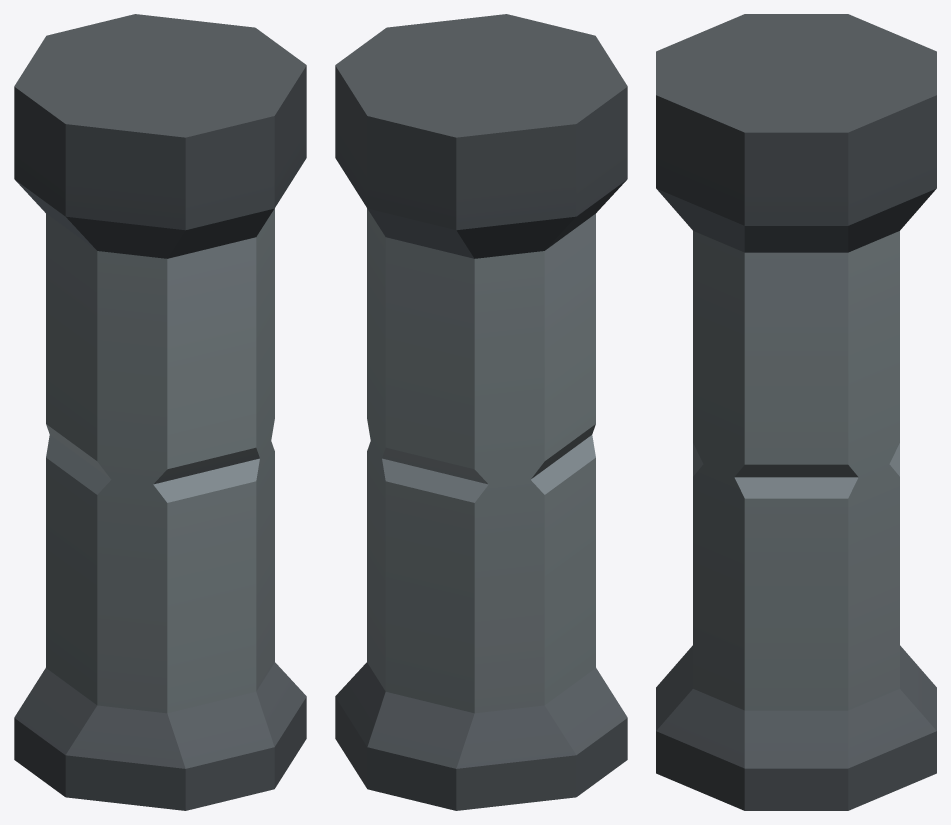
Rendered from kay-pilar-simples.gltf.
3 renders of one model, left to right at view 1: azimuth 30°, elevation 25°; view 2: azimuth 150°, elevation 25°; view 3: azimuth 270°, elevation 25°, orthographic.
Visible parts, largest first — view 1: pillar; view 2: pillar; view 3: pillar.
Part boxes in pixels (<box>): pillar: <box>14,14,306,810</box>; pillar: <box>335,14,627,810</box>; pillar: <box>656,14,936,810</box>.
Size of the model in its own units: 0.9751 by 2.6 by 0.9751.
1 material, 1 textured.
